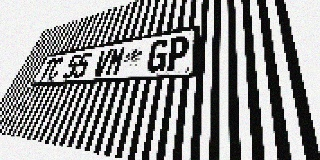5: (72, 52, 93, 79), (61, 54, 82, 79)
C: (45, 57, 65, 81)
G: (145, 38, 170, 73)
M: (104, 46, 127, 76)
P: (165, 35, 190, 71)
T: (37, 58, 57, 81)
V: (91, 48, 114, 77)
